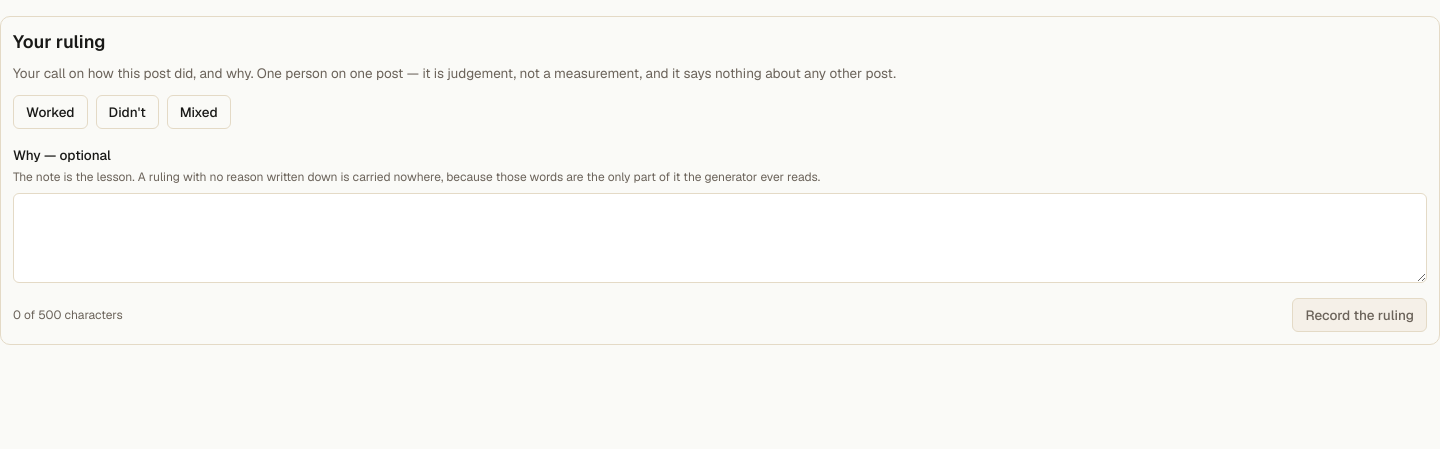
Test case: an existing verdict › shows the ruling the route stored, not the one that was clicked
Click the button "Mixed". click: point(199, 112)
box: [167,95,231,129]
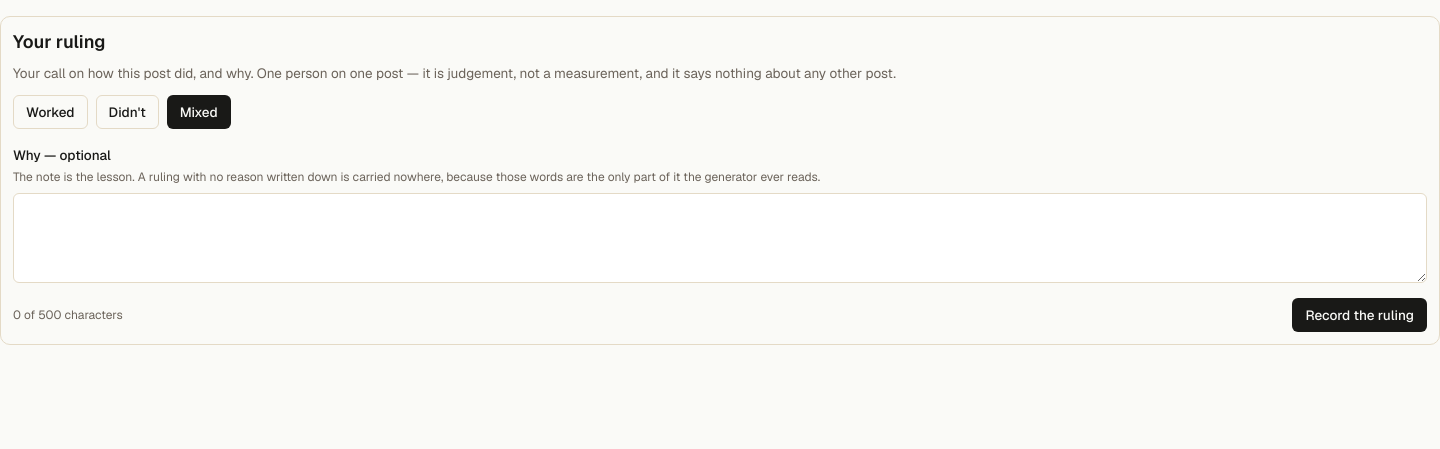
Click the button "Record the ruling". click: point(1360, 315)
box: [1292,298,1427,332]
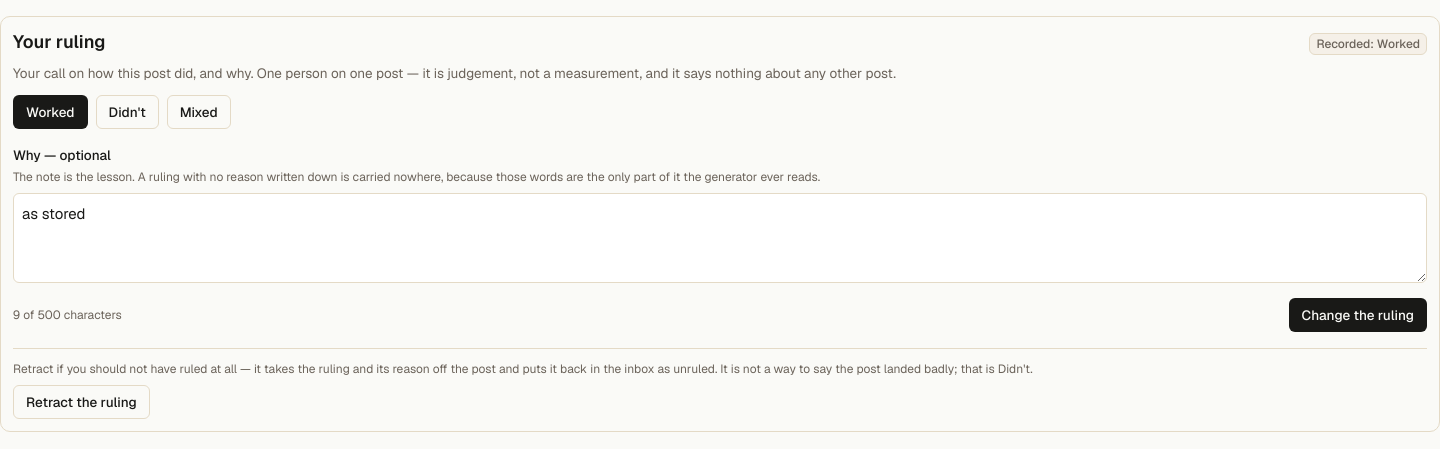
Result: the text "Recorded: Worked" is shown at [1309,33,1427,55]
Result: the text box labelled "Why — optional" holds "as stored" at [13,193,1427,283]
